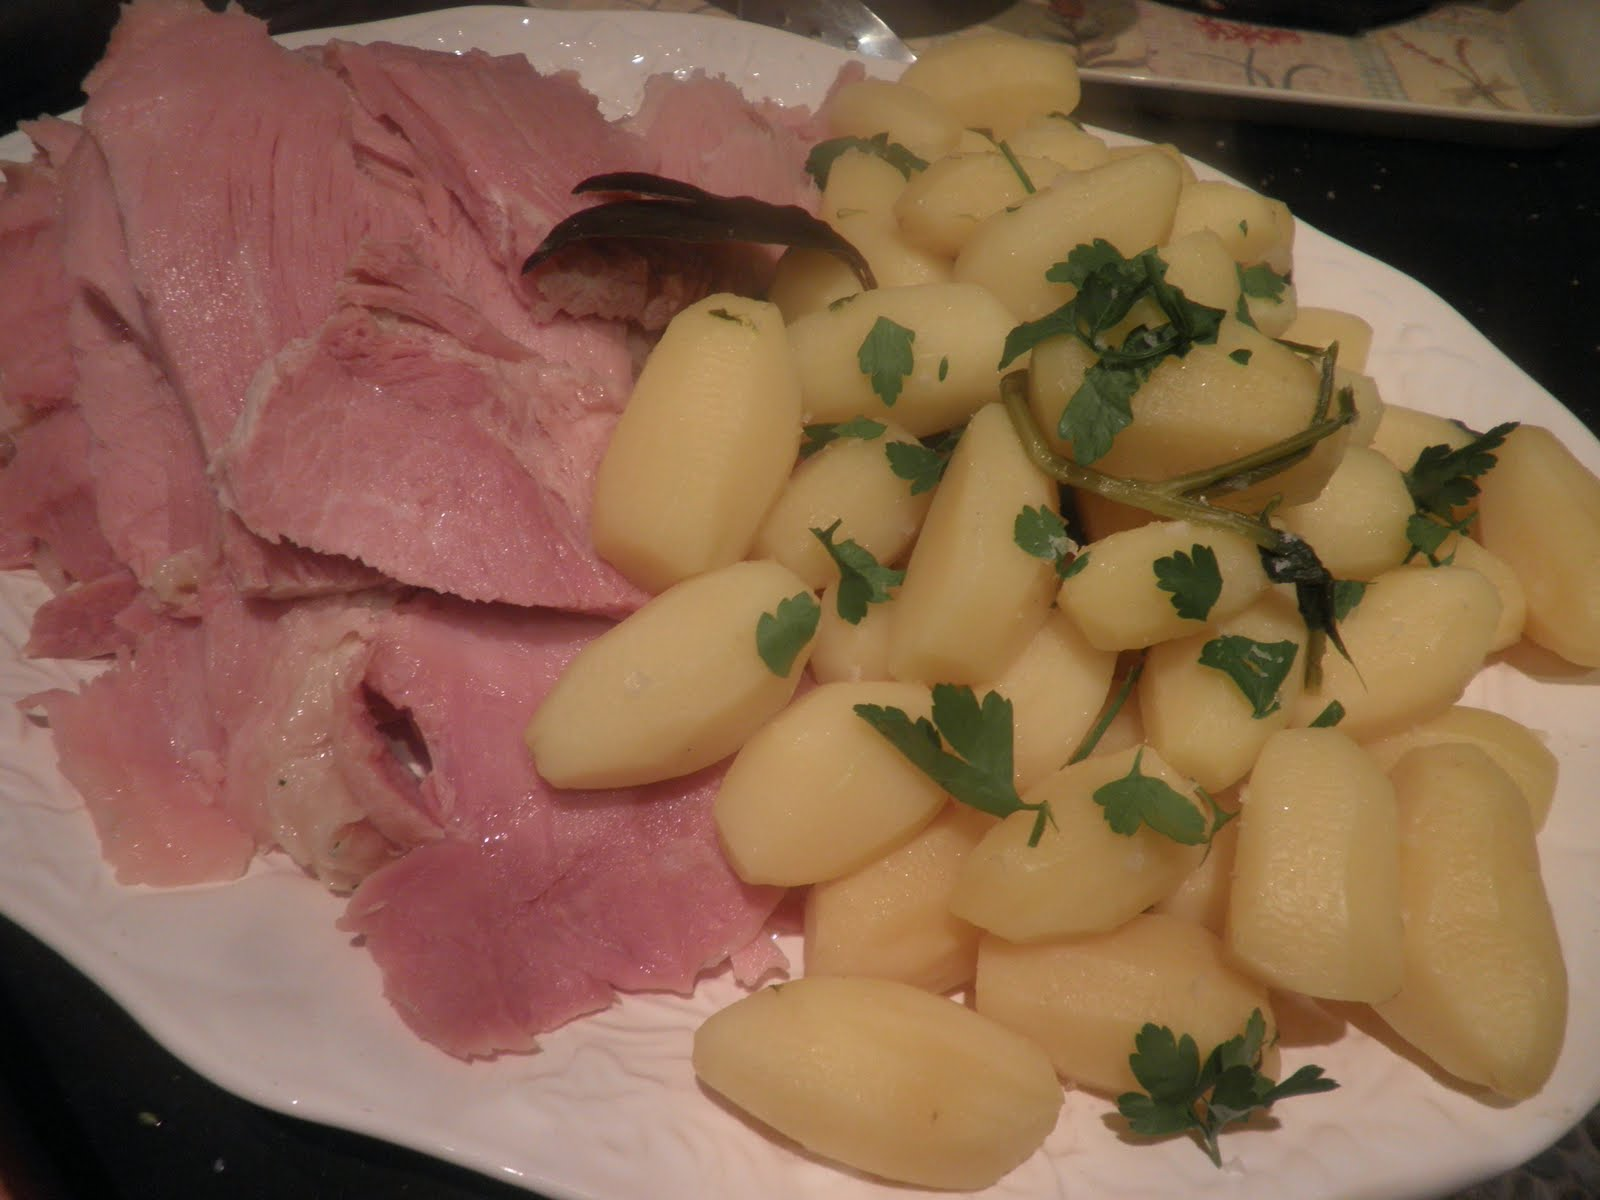boiled potatoes: (643, 71, 1571, 1163)
